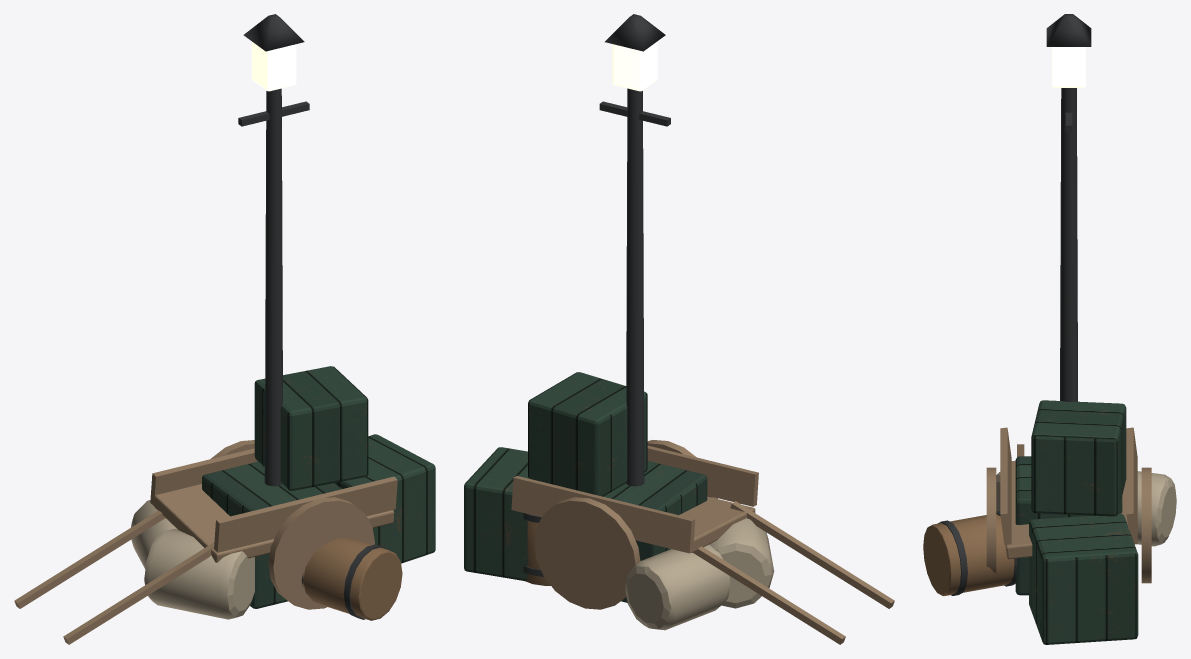
Rendered from props.glb.
The picture shows the model from 3 angles, left to right: view 1: azimuth 30°, elevation 25°; view 2: azimuth 150°, elevation 25°; view 3: azimuth 270°, elevation 25°; orthographic projection.
Visible parts, largest first — view 1: crate-c, lamp-column, sack-a, crate-b, barrel-c-body, cart-wheel--1, crate-a, cart-side--1, cart-bed, cart-side-1, cart-handle--1, lamp-head (+5 smaller); view 2: crate-c, cart-wheel-1, crate-b, lamp-column, sack-b, cart-side-1, crate-a, sack-a, cart-side--1, cart-handle--1, lamp-head, cart-handle-1 (+3 smaller); view 3: crate-b, crate-c, lamp-column, barrel-c-body, sack-b, crate-a, lamp-head, cart-wheel-1, cart-side--1, lamp-roof, cart-bed, cart-side-1 (+2 smaller).
Boxes of the visible parts, left/top/right/bottom form: crate-c: left=254, top=366, right=368, bottom=490; lamp-column: left=264, top=88, right=282, bottom=486; sack-a: left=144, top=529, right=254, bottom=619; crate-b: left=334, top=434, right=435, bottom=563; barrel-c-body: left=303, top=538, right=402, bottom=620; cart-wheel--1: left=268, top=497, right=374, bottom=609; crate-a: left=202, top=461, right=341, bottom=608; cart-side--1: left=214, top=476, right=397, bottom=552; cart-bed: left=154, top=484, right=394, bottom=562; cart-side-1: left=150, top=448, right=257, bottom=505; cart-handle--1: left=63, top=542, right=214, bottom=644; lamp-head: left=251, top=41, right=296, bottom=91; crate-c: left=528, top=372, right=647, bottom=496; cart-wheel-1: left=534, top=497, right=640, bottom=609; crate-b: left=464, top=447, right=528, bottom=581; lamp-column: left=626, top=88, right=644, bottom=486; sack-b: left=625, top=544, right=730, bottom=630; cart-side-1: left=511, top=476, right=695, bottom=553; crate-a: left=603, top=461, right=707, bottom=602; sack-a: left=709, top=518, right=774, bottom=608; cart-side--1: left=647, top=445, right=758, bottom=506; cart-handle--1: left=730, top=501, right=894, bottom=608; lamp-head: left=612, top=41, right=657, bottom=91; cart-handle-1: left=693, top=546, right=845, bottom=644; crate-b: left=1029, top=514, right=1138, bottom=644; crate-c: left=1031, top=400, right=1126, bottom=516; lamp-column: left=1060, top=88, right=1077, bottom=401; barrel-c-body: left=923, top=514, right=1014, bottom=596; sack-b: left=1137, top=471, right=1176, bottom=546; crate-a: left=1015, top=456, right=1122, bottom=595; lamp-head: left=1052, top=47, right=1085, bottom=87; cart-wheel-1: left=1141, top=467, right=1151, bottom=583; cart-side--1: left=1000, top=427, right=1011, bottom=544; lamp-roof: left=1046, top=14, right=1091, bottom=46; cart-bed: left=1005, top=460, right=1127, bottom=559; cart-side-1: left=1126, top=427, right=1137, bottom=544.
Bounding box in the file's own units: 0.9031 × 1.27 × 0.5226.
Materials: 6 (1 with a texture image).
